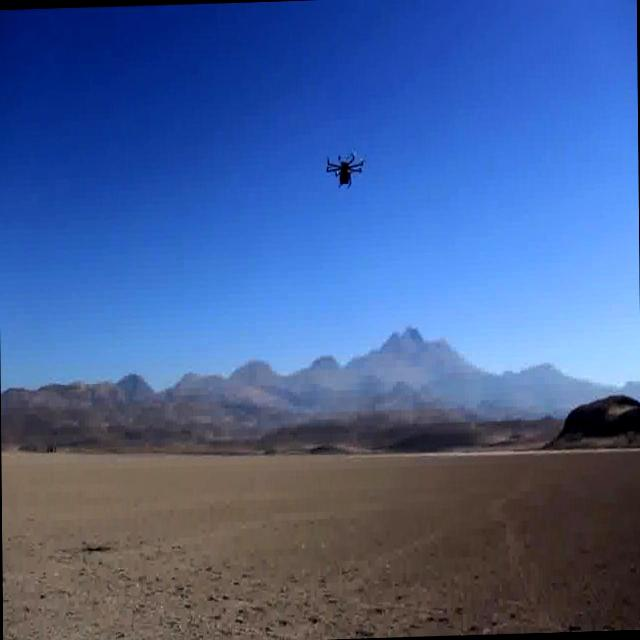drone: (323, 148, 366, 194)
